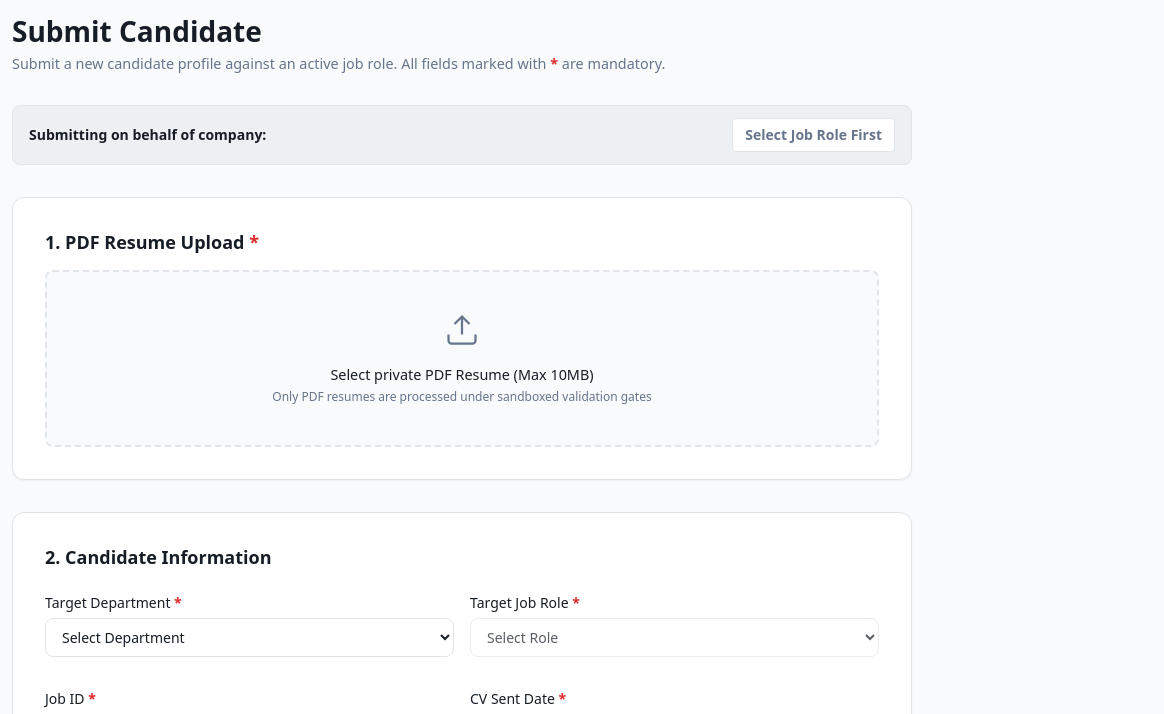
Test: Vendor Submit Candidate Mandatory Fields & Job ID › dynamically loads job roles when department is selected
This screenshot has width=1164, height=714.
Select "Engineering" in the dropdown labelled "Target Department *". click: (250, 637)
box: [45,618,454,657]
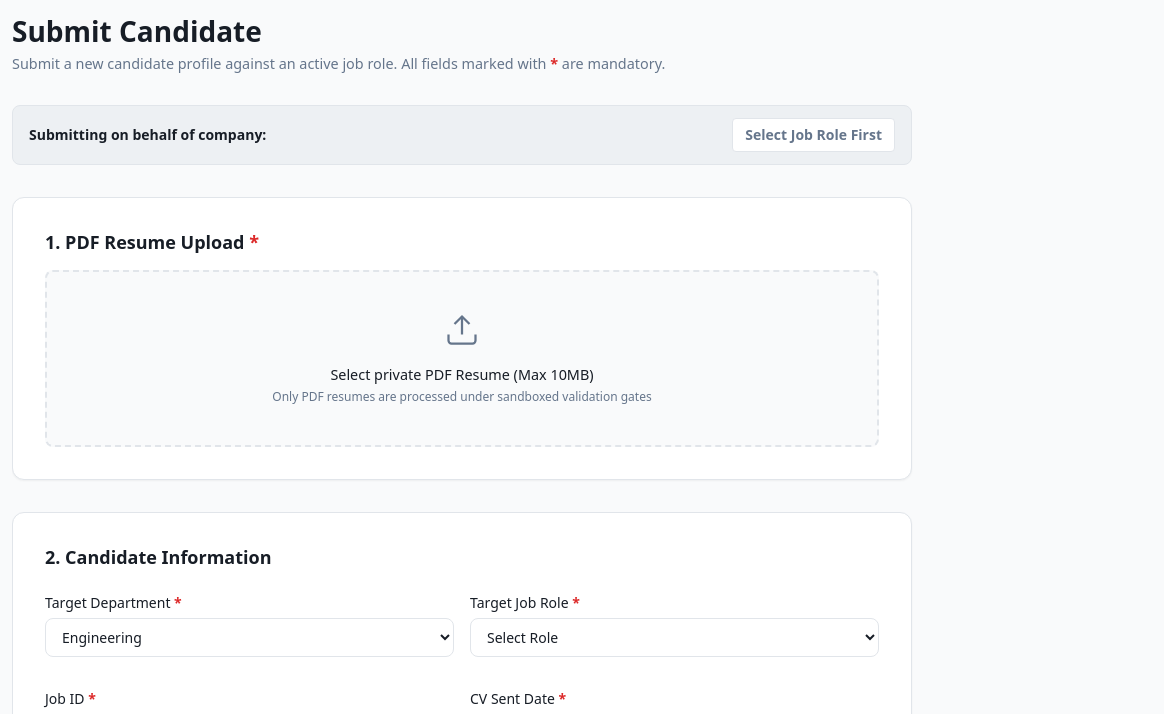
Result: the dropdown labelled "Target Job Role *" is enabled at [470,618,879,657]
